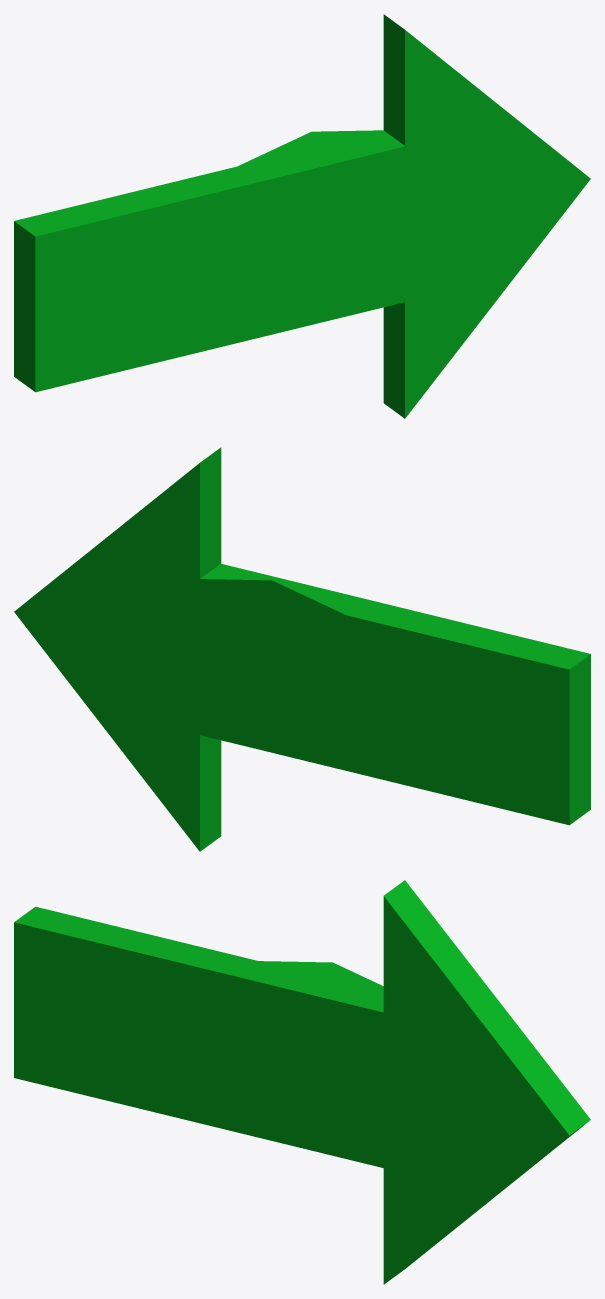
File: Arrow.fbx
The picture shows the model from 3 angles, top to bottom: view 1: azimuth 30°, elevation 25°; view 2: azimuth 150°, elevation 25°; view 3: azimuth 330°, elevation 25°; orthographic projection.
Visible parts, largest first — view 1: Box, Box1; view 2: Box, Box1; view 3: Box, Box1.
Boxes of the visible parts, <box> form: Box: <box>14,130,406,392</box>; Box1: <box>383,14,590,418</box>; Box: <box>197,564,590,825</box>; Box1: <box>14,447,221,851</box>; Box: <box>14,906,383,1167</box>; Box1: <box>383,880,590,1284</box>.
Size of the model in its own units: 1.49 by 1 by 0.1.
